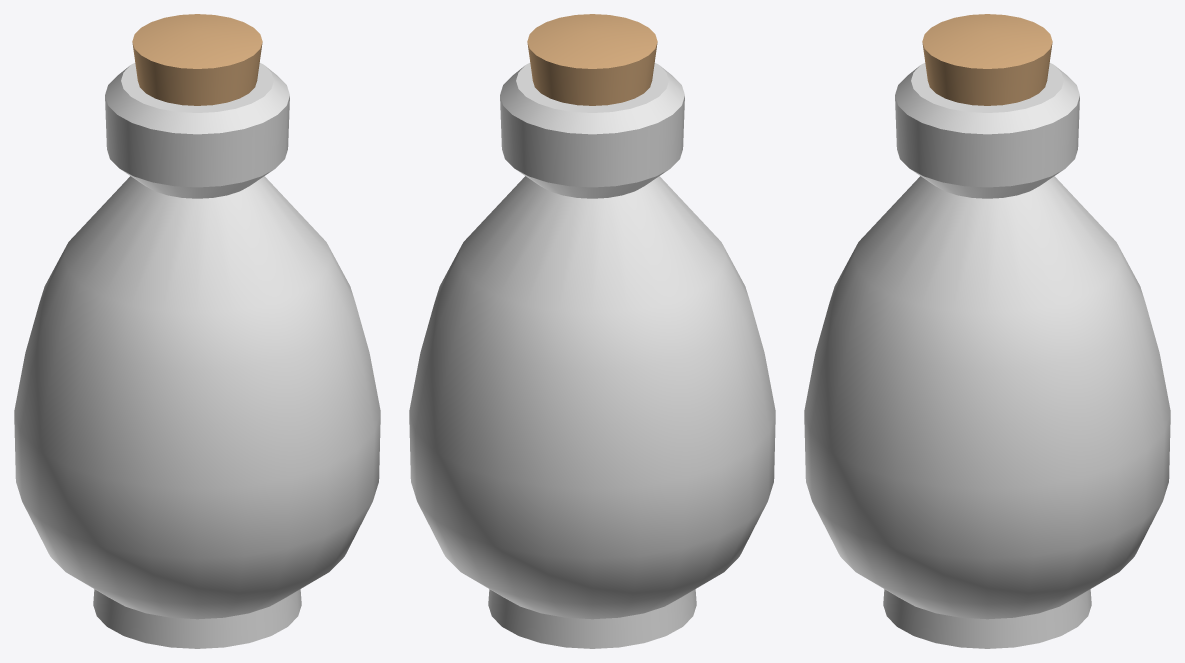
The model's file is potionSmall_green.glb.
3 views of the same model, side by side, from view 1: azimuth 30°, elevation 25°; view 2: azimuth 150°, elevation 25°; view 3: azimuth 270°, elevation 25° (orthographic).
Visible parts, largest first — view 1: potionSmall_green; view 2: potionSmall_green; view 3: potionSmall_green.
Boxes of the visible parts, x1=… form: potionSmall_green: x1=14, y1=14, x2=380, y2=648; potionSmall_green: x1=409, y1=14, x2=775, y2=648; potionSmall_green: x1=804, y1=14, x2=1170, y2=648.
Bounding box in the file's own units: 0.5001 × 0.8622 × 0.5001.
